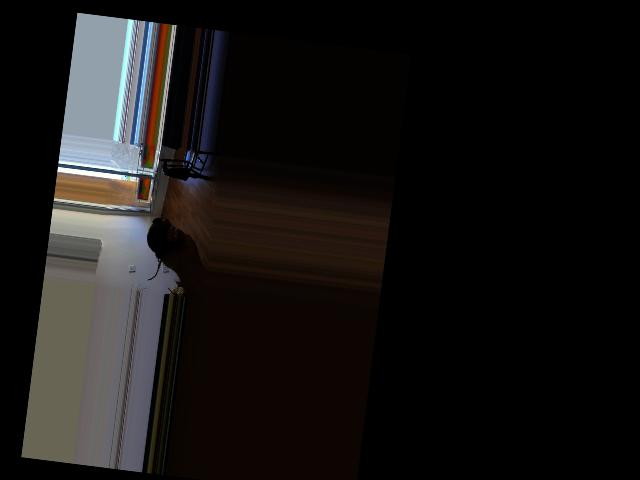beet: (142, 215, 171, 281)
